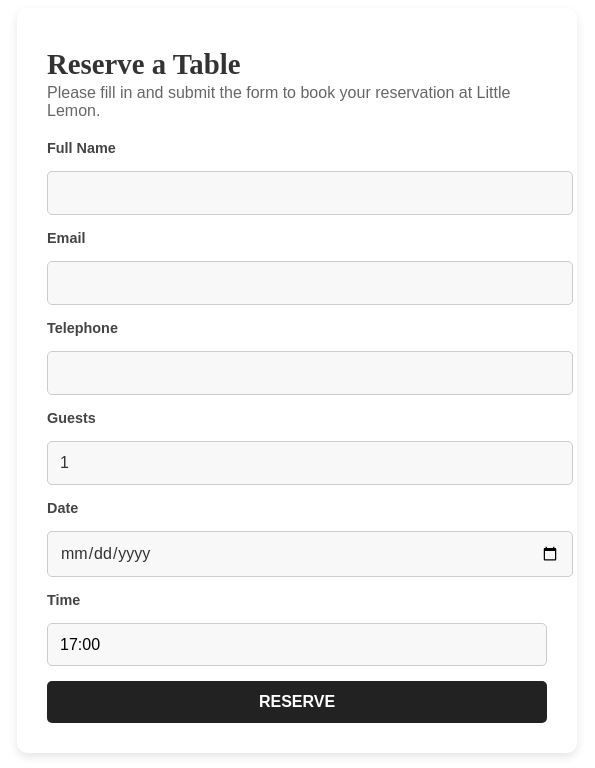
it: ReservationForm Component › validates required fields
Clear the number field labelled "Guests" at (310,463), box [47,441,573,485]
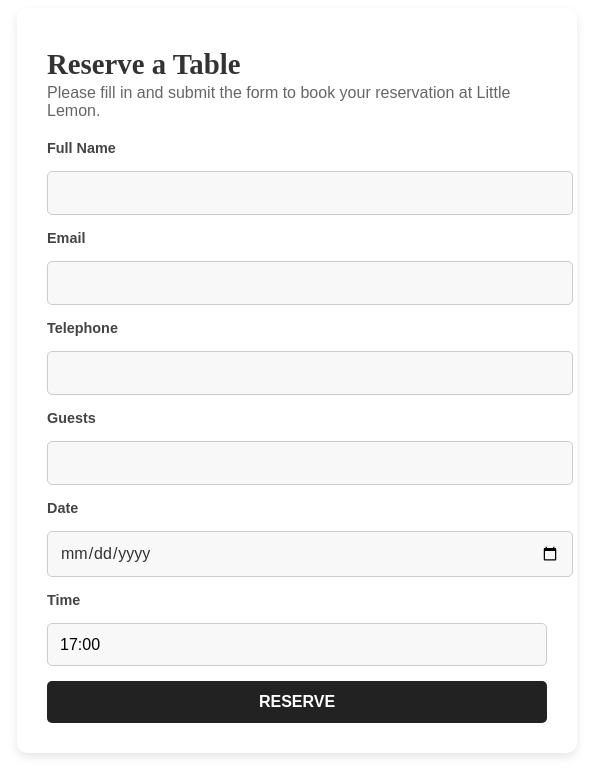
Select "" in the dropdown labelled "Time" at (297,644), box [47,623,547,666]
Click the button "Reserve" at (297,702), box [47,681,547,723]
(page scrolled)
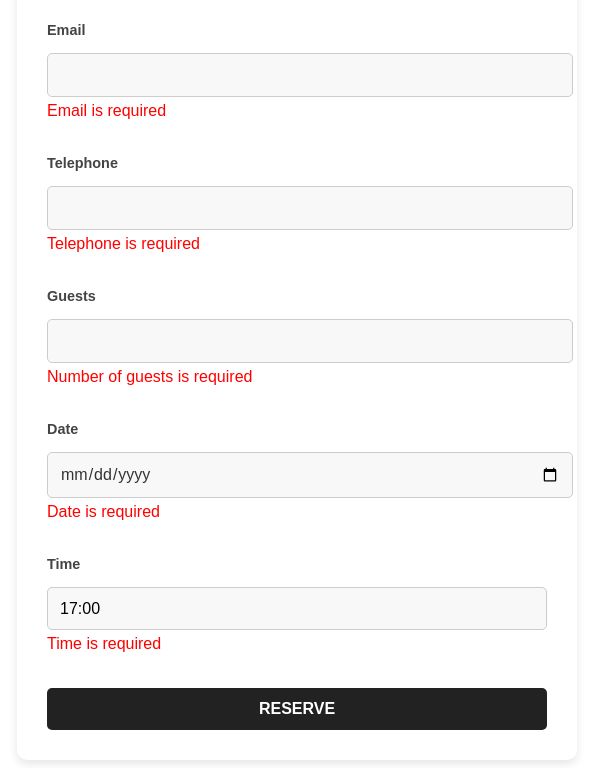
Expected: the text "Email is required" is shown, [47,102,166,119]
Expected: the text "Telephone is required" is shown, [47,235,200,252]
Expected: the text "Number of guests is required" is shown, [47,368,252,385]
